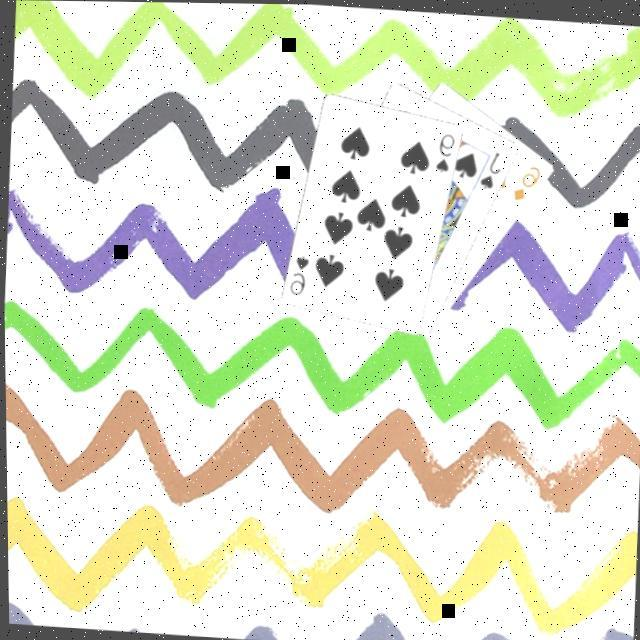6D: (508, 158, 544, 202)
9S: (430, 126, 458, 173), (284, 249, 312, 296)
JS: (474, 143, 504, 190)
